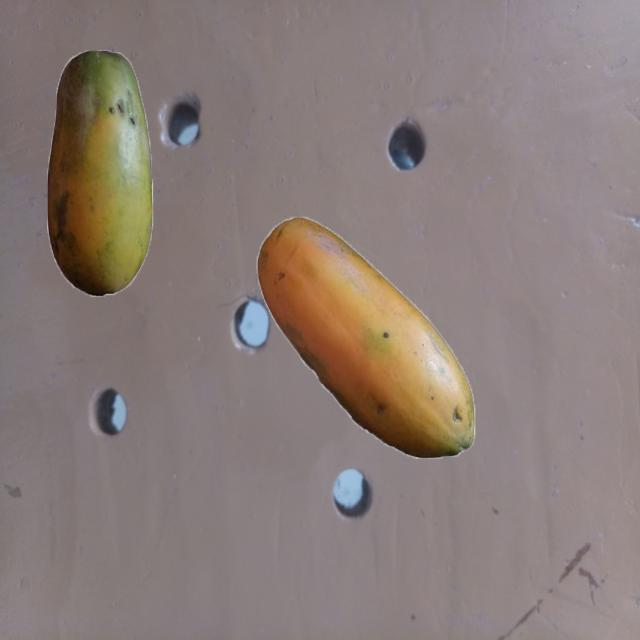Pepaya rippen: (250, 210, 483, 480), (40, 43, 159, 303)
